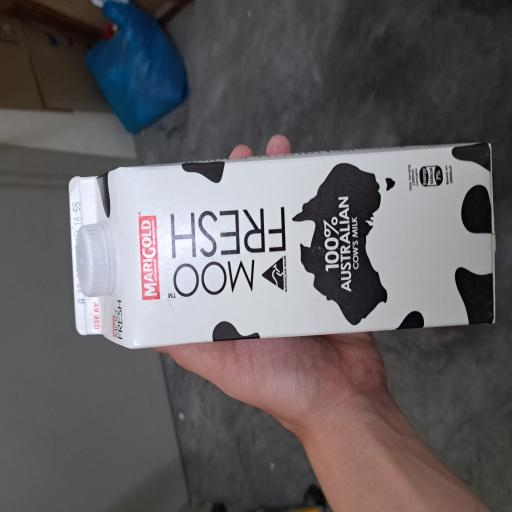drink carton: (122, 90, 279, 512)
plastic bottle cap: (161, 98, 219, 154)
